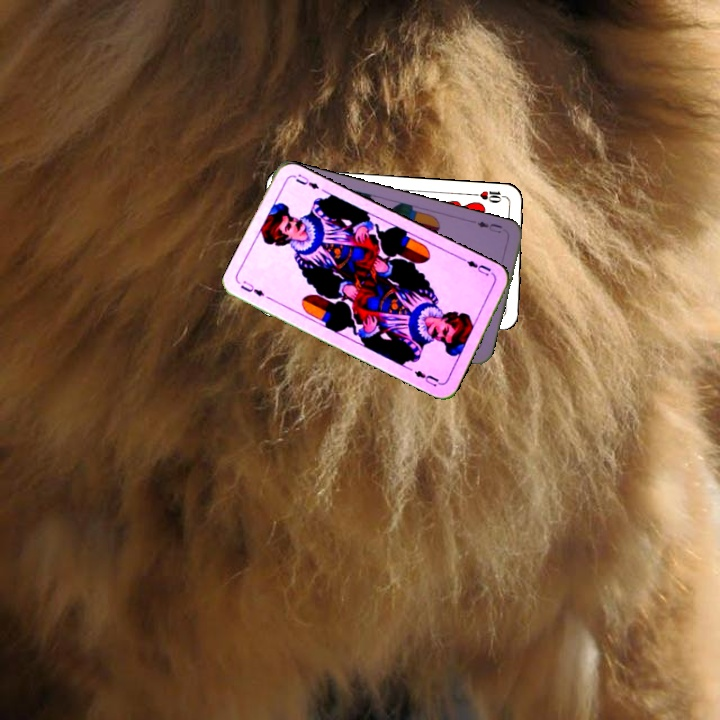EU: (458, 254, 494, 279), (236, 277, 267, 299), (473, 217, 505, 236)
H10: (469, 187, 509, 205)
